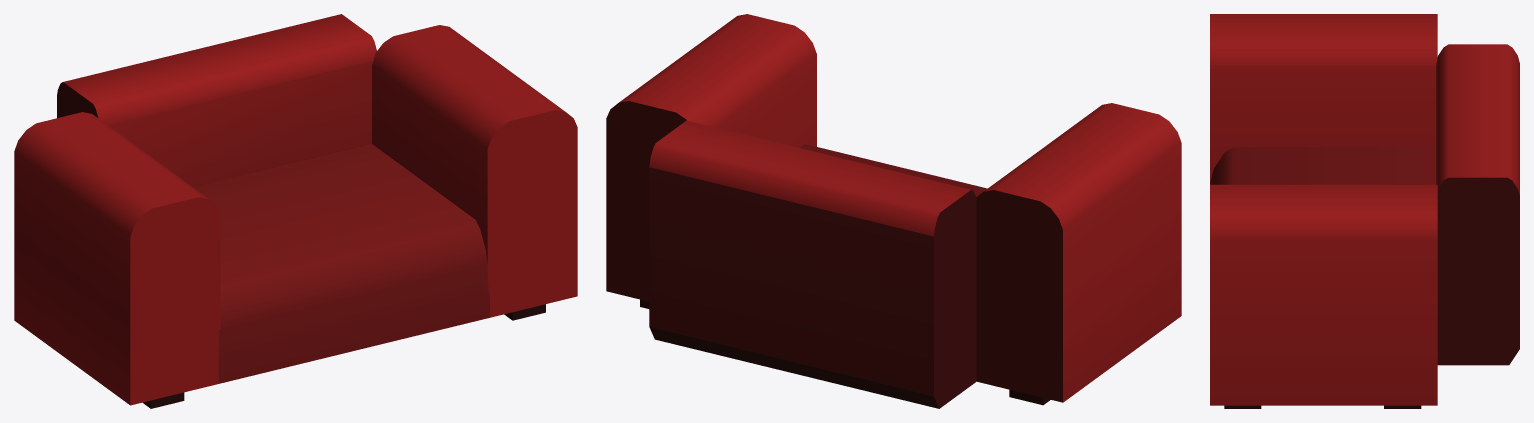
The model's file is Armchair.FBX.
3 views of the same model, side by side, from view 1: azimuth 30°, elevation 25°; view 2: azimuth 150°, elevation 25°; view 3: azimuth 270°, elevation 25° (orthographic). The views are drawn at different scales.
Visible parts, largest first — view 1: Armchair; view 2: Armchair; view 3: Armchair.
Part boxes in pixels (x1,y1,x2,y2): Armchair: (14,14,577,408); Armchair: (606,14,1181,408); Armchair: (1210,14,1519,408).
Size of the model in its own units: 15.63 by 6.92 by 9.57.
